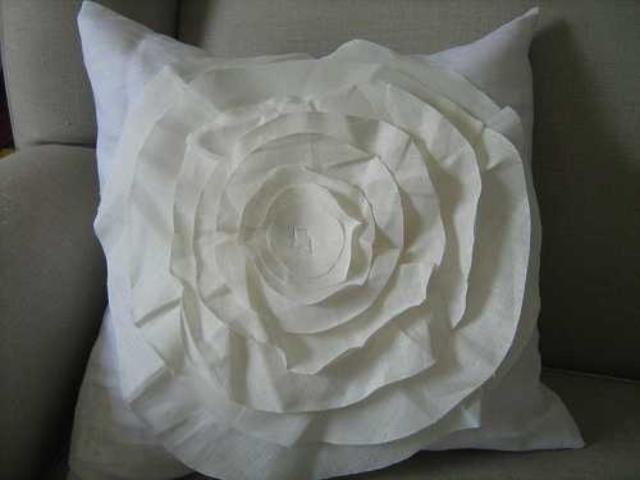pillow: (70, 1, 584, 478)
